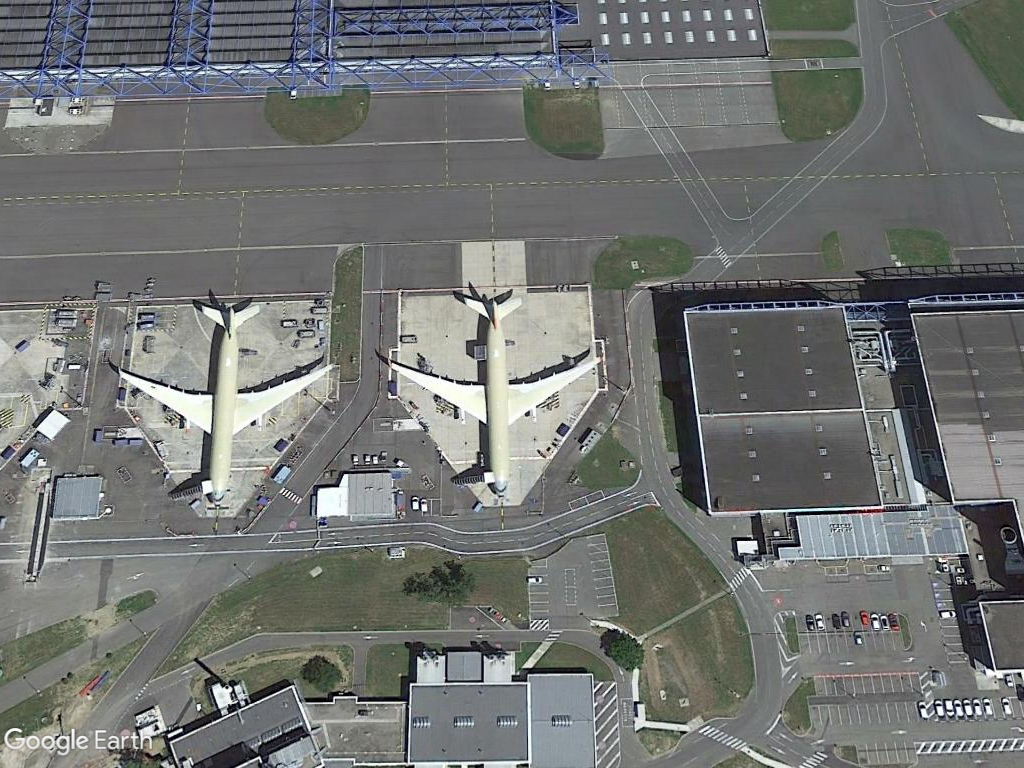airliner: (112, 301, 338, 511), (381, 289, 602, 503)
car: (960, 697, 975, 722), (999, 695, 1014, 719), (812, 610, 827, 634), (915, 698, 930, 722), (979, 695, 994, 719), (868, 609, 882, 634), (932, 697, 946, 720), (840, 608, 852, 630)
